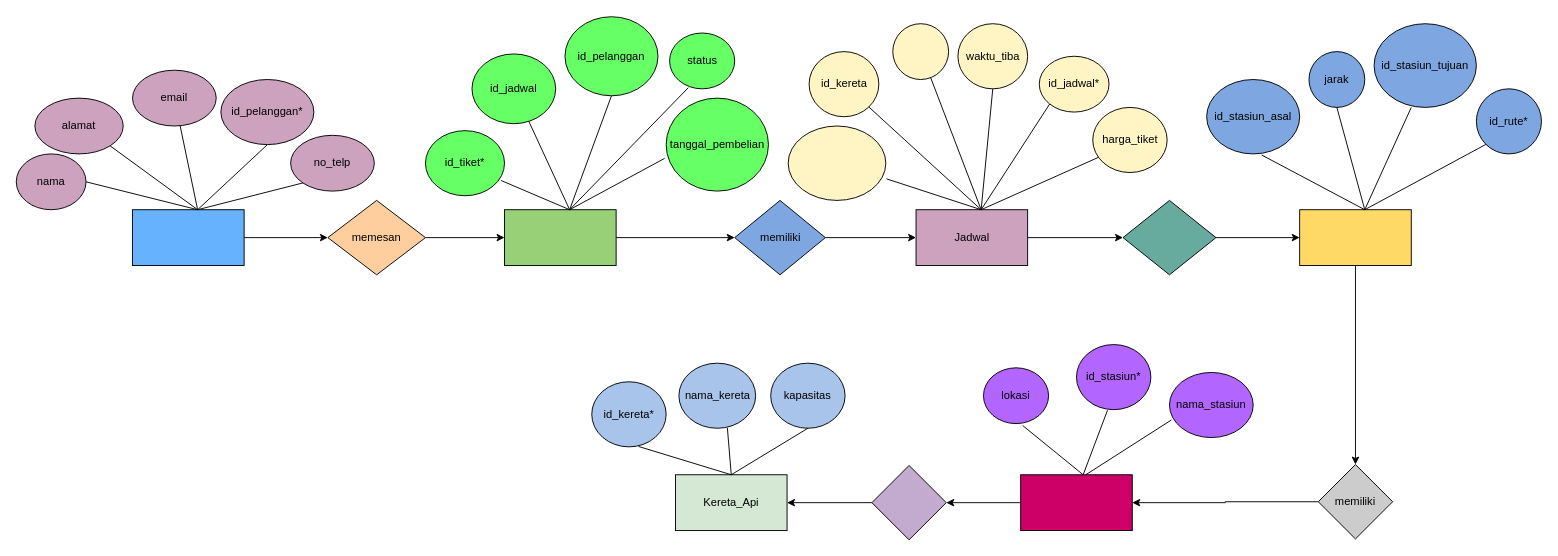
Some shapes in this 1558 by 556 pixel diagram are drawn without their labels. Each missing label, with the box of its shape:
id_rute: (892, 23, 949, 80)
memilih: (871, 465, 946, 540)
menetapkan: (1122, 199, 1216, 275)
Pelanggan: (132, 209, 244, 266)
Rute: (1299, 209, 1411, 266)
Stasiun: (1020, 474, 1132, 531)
Tiket: (504, 209, 616, 266)
waktu_berangkat: (787, 125, 886, 200)
